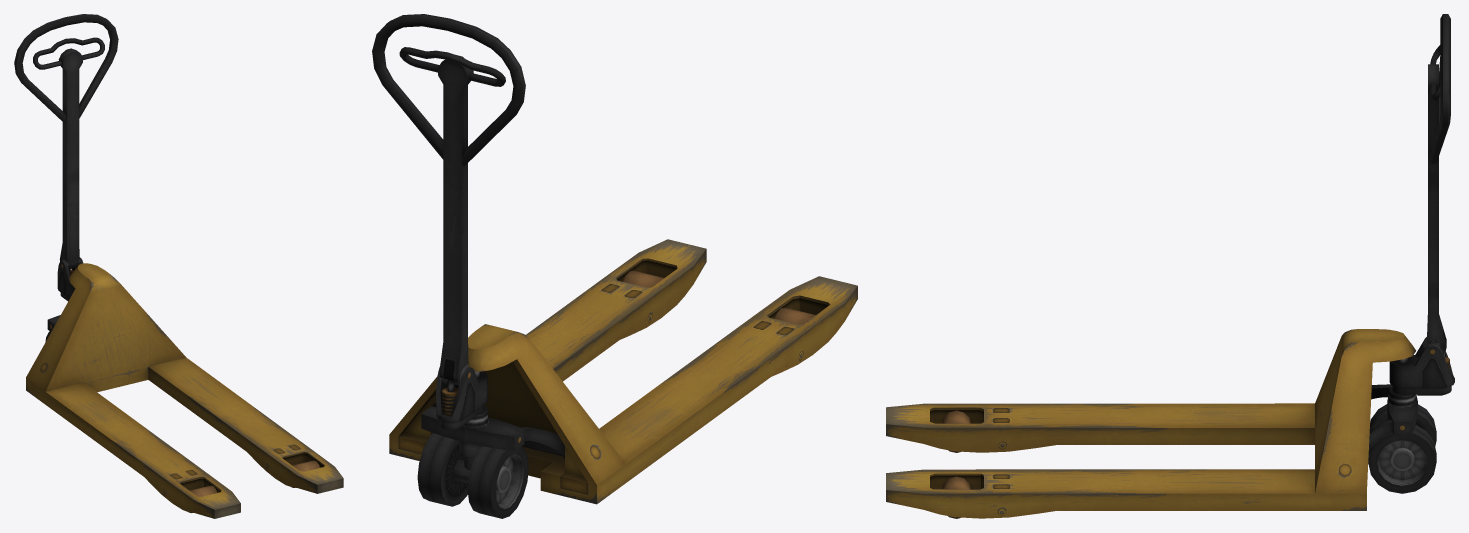
Rendered from PalletJack01.FBX.
3 renders of one model, left to right at view 1: azimuth 30°, elevation 25°; view 2: azimuth 150°, elevation 25°; view 3: azimuth 270°, elevation 25°, orthographic. The views are drawn at different scales.
Parts seen in each view (by area): view 1: PalletJack01, SteeringTop, SteeringBottom; view 2: PalletJack01, SteeringTop, Wheels, SteeringBottom; view 3: PalletJack01, SteeringTop, Wheels, SteeringBottom.
Part boxes in pixels (x1,y1,x2,y2): PalletJack01: (26, 263, 343, 518); SteeringTop: (14, 14, 118, 269); SteeringBottom: (57, 257, 83, 301); PalletJack01: (389, 239, 857, 504); SteeringTop: (372, 14, 525, 381); Wheels: (417, 433, 528, 518); SteeringBottom: (436, 367, 487, 482); PalletJack01: (886, 329, 1417, 518); SteeringTop: (1427, 14, 1450, 352); Wheels: (1368, 404, 1436, 493); SteeringBottom: (1389, 337, 1454, 406).
Bounding box in the file's own units: 53.5 × 142 × 124.
